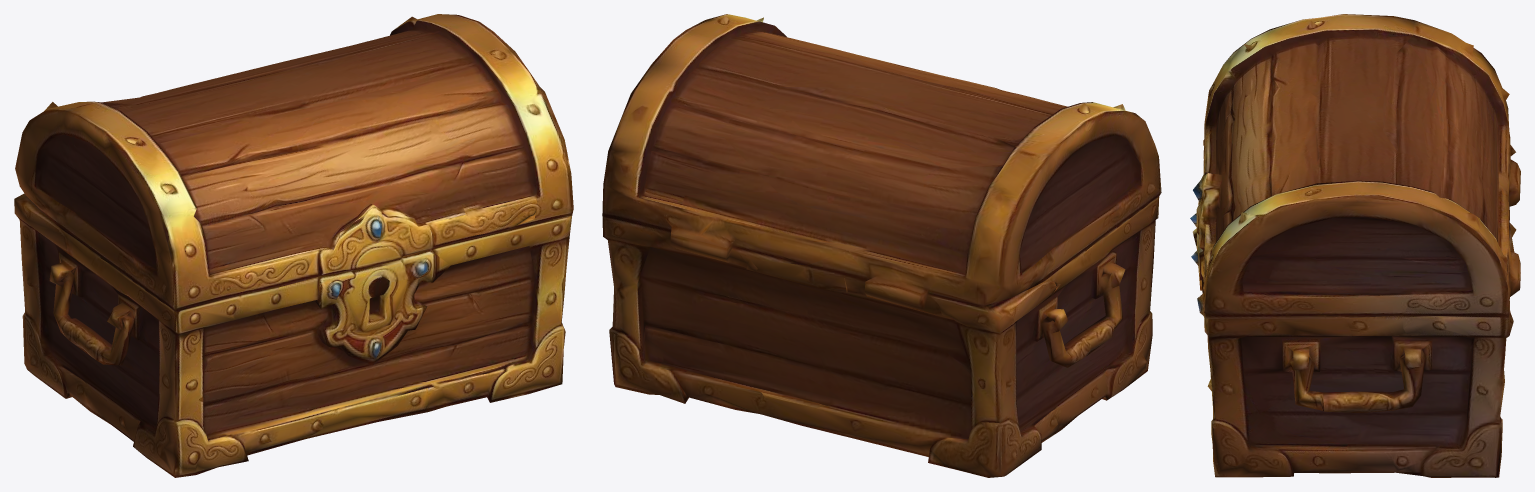
File: treasure chest 3d model.glb
3 renders of one model, left to right at view 1: azimuth 30°, elevation 25°; view 2: azimuth 150°, elevation 25°; view 3: azimuth 270°, elevation 25°, orthographic. The views are drawn at different scales.
Visible parts, largest first — view 1: tripo_node_7f30122f-b9c3-42b2-a298-a76b3eb79c9e; view 2: tripo_node_7f30122f-b9c3-42b2-a298-a76b3eb79c9e; view 3: tripo_node_7f30122f-b9c3-42b2-a298-a76b3eb79c9e.
Boxes of the visible parts, x1=… form: tripo_node_7f30122f-b9c3-42b2-a298-a76b3eb79c9e: x1=14, y1=14, x2=573, y2=477; tripo_node_7f30122f-b9c3-42b2-a298-a76b3eb79c9e: x1=602, y1=14, x2=1161, y2=477; tripo_node_7f30122f-b9c3-42b2-a298-a76b3eb79c9e: x1=1190, y1=14, x2=1520, y2=477.
Bounding box in the file's own units: 1 × 0.674 × 0.7061.
Materials: 1 (1 with a texture image).
